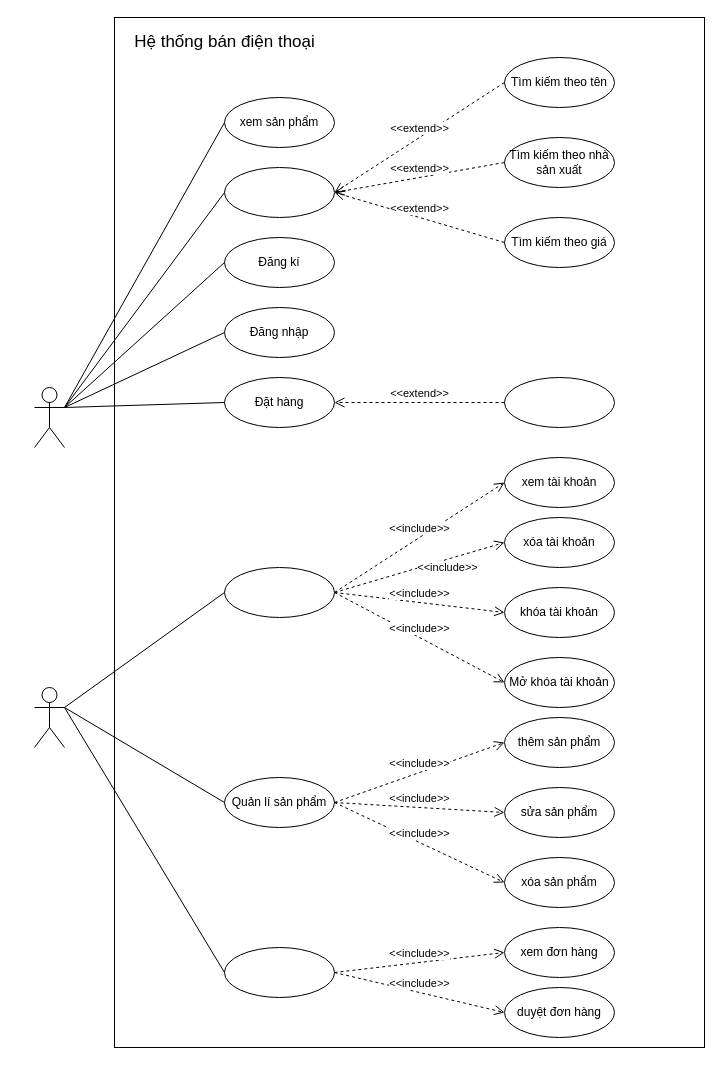
Image size: 722x1065. Some labels were removed from this diagram. Each missing label, with the box of its shape:
Admin: (34, 686, 64, 748)
Khách hàng: (34, 386, 64, 448)
Quản lí tài khoản: (224, 566, 334, 618)
Quản lí đơn hàng: (224, 946, 334, 998)
Thanh toán: (504, 376, 614, 428)
Tìm sản phẩm: (224, 166, 334, 218)
